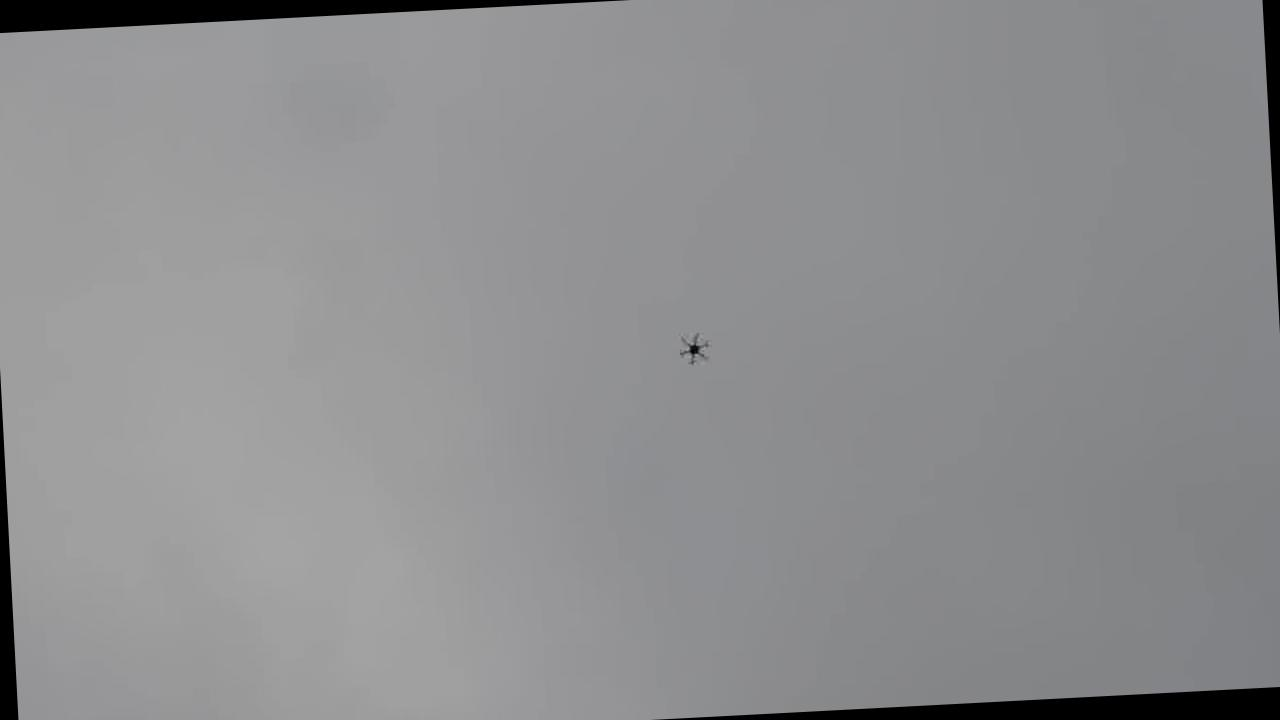drone: (674, 325, 712, 366)
